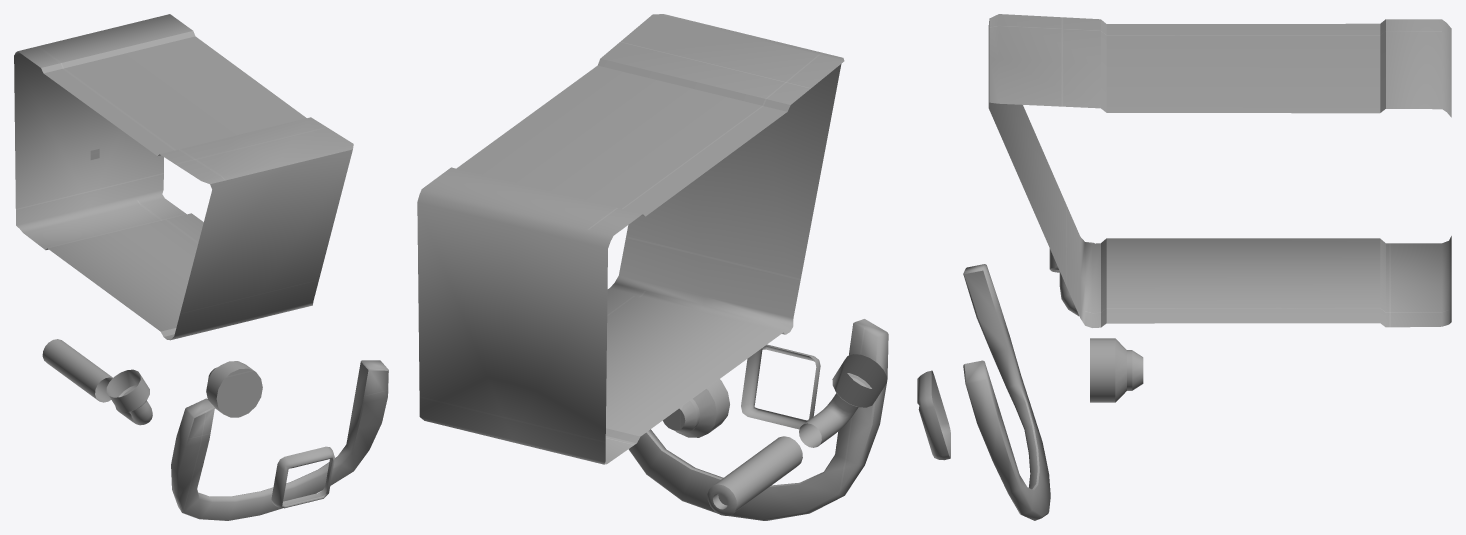
The model's file is CoffeeMachine_14_CoffeeMachine_14_0_GeomSubset_2.obj.
3 renders of one model, left to right at view 1: azimuth 30°, elevation 25°; view 2: azimuth 150°, elevation 25°; view 3: azimuth 270°, elevation 25°, orthographic. The views are drawn at different scales.
Visible parts, largest first — view 1: CoffeeMachine_14_CoffeeMachine_14_0_GeomSubset_2; view 2: CoffeeMachine_14_CoffeeMachine_14_0_GeomSubset_2; view 3: CoffeeMachine_14_CoffeeMachine_14_0_GeomSubset_2.
Part boxes in pixels (x1=…): CoffeeMachine_14_CoffeeMachine_14_0_GeomSubset_2: x1=14, y1=14, x2=388, y2=520; CoffeeMachine_14_CoffeeMachine_14_0_GeomSubset_2: x1=417, y1=14, x2=888, y2=520; CoffeeMachine_14_CoffeeMachine_14_0_GeomSubset_2: x1=917, y1=14, x2=1451, y2=520.
Size of the model in its own units: 0.2682 by 0.3905 by 0.428.
